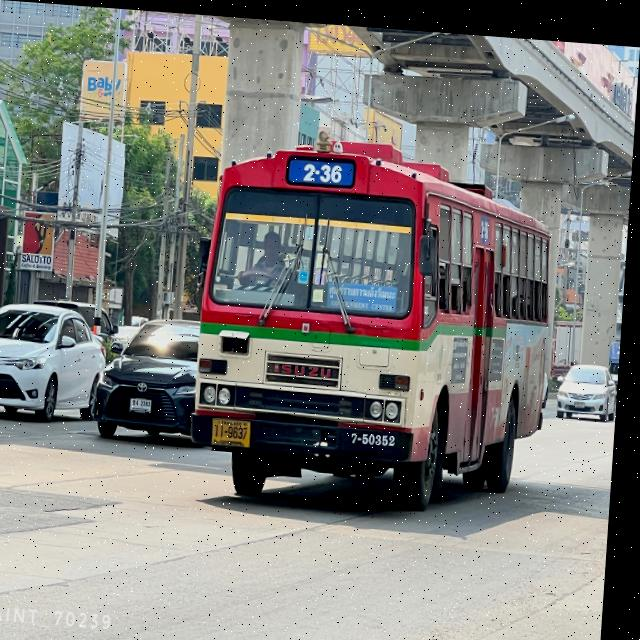BMTA-bus: (187, 118, 569, 516)
Bus-Line-Number: (285, 148, 359, 184)
Destination-Sign-Normal: (328, 279, 404, 311)
